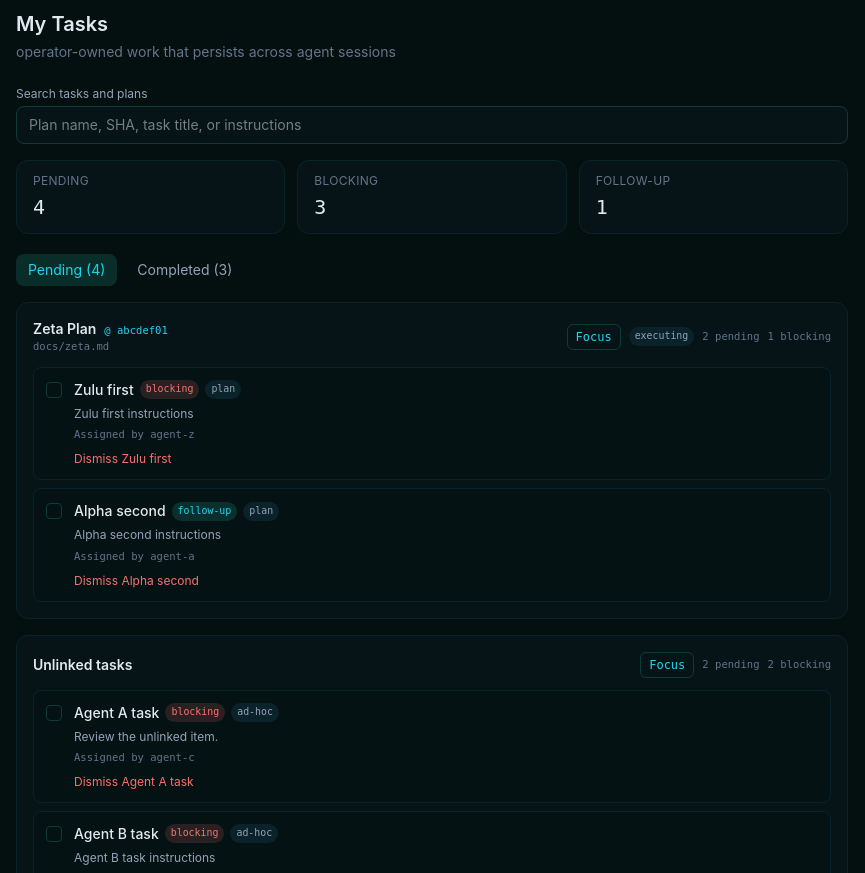
MyTasks › searches plan identity and task content without changing the server totals
Expected: the tab "Pending (4)" is shown, 16,254 -> 117,286
Type "abcdef01" into the search field labelled "Search tasks and plans" at point(432, 125), box 16,106 -> 848,144
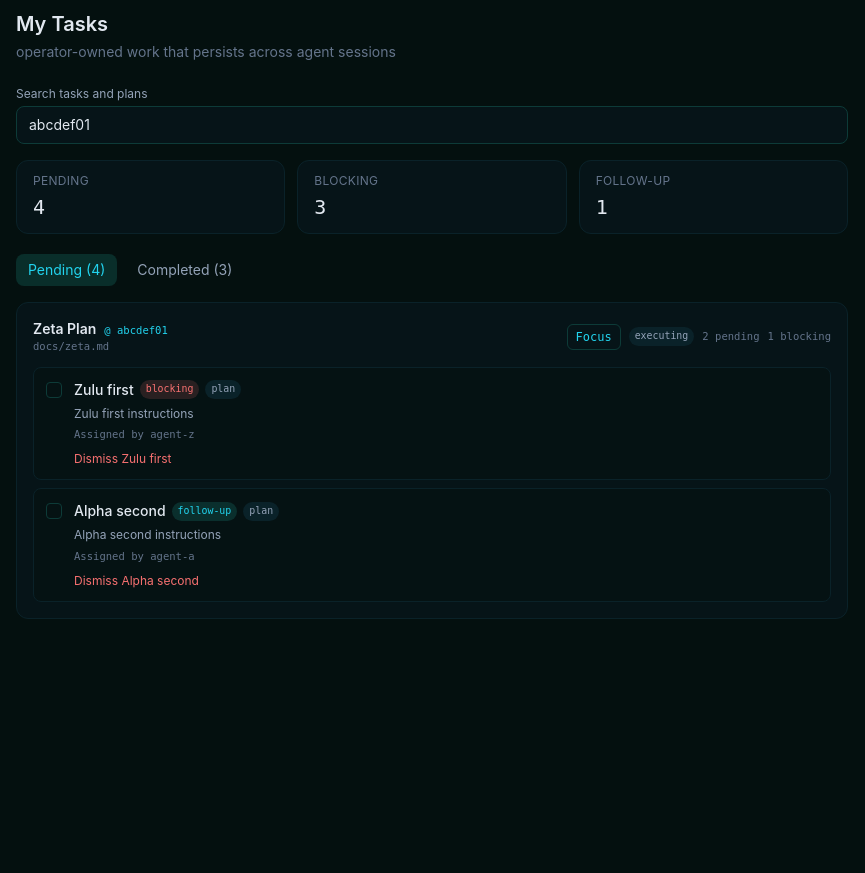
Expected: the heading "Zulu first" is shown, 74,380 -> 134,400
Result: the heading "Agent A task" is gone
Replace the text in the search field labelled "Search tasks and plans" with "zeta plan" at point(432, 125), box 16,106 -> 848,144
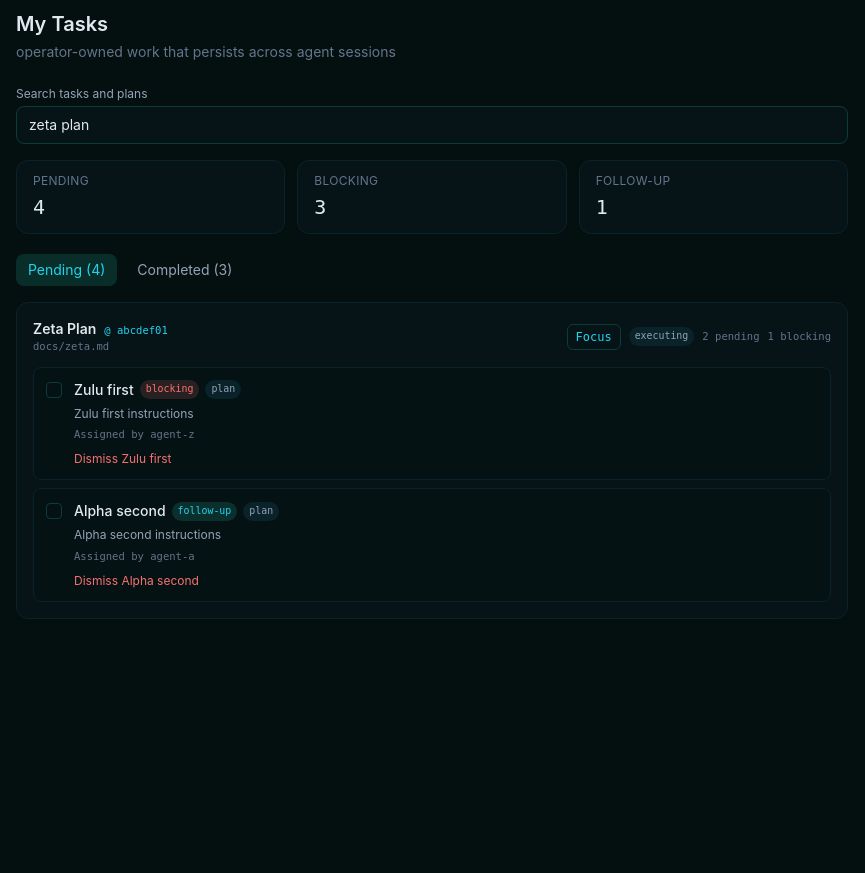
Expected: the heading "Zulu first" is shown, 74,380 -> 134,400
Expected: the heading "Agent A task" is not shown
Replace the text in the search field labelled "Search tasks and plans" with "docs/zeta.md" at point(432, 125), box 16,106 -> 848,144
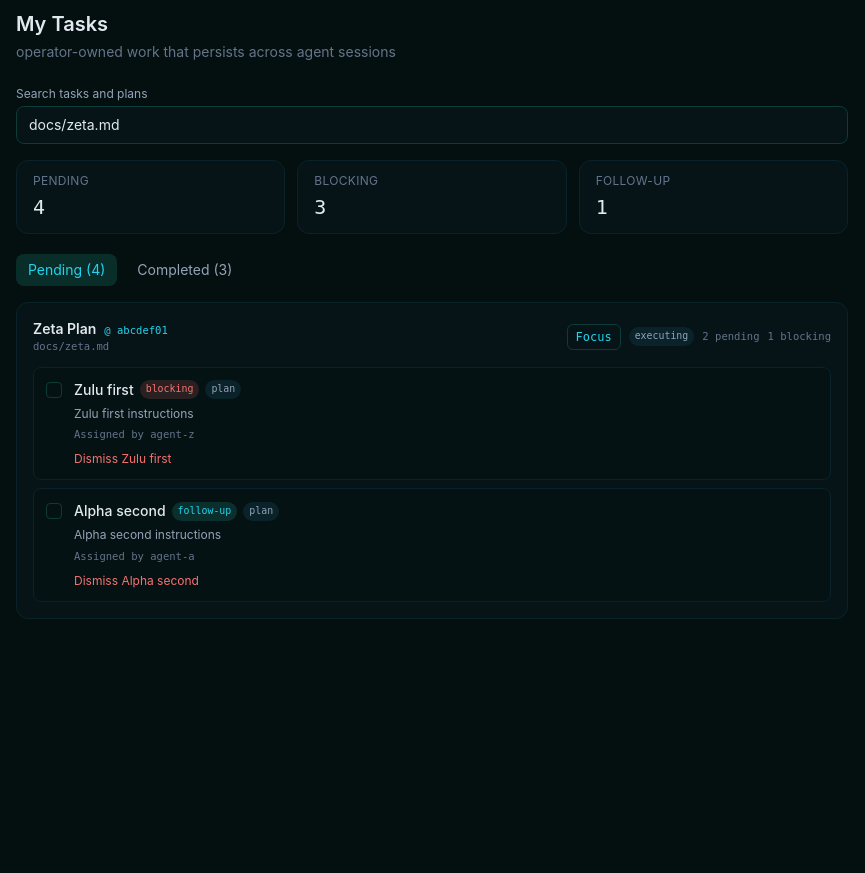
Expected: the heading "Alpha second" is shown, 74,501 -> 166,521
Expected: the heading "Agent B task" is not shown
Replace the text in the search field labelled "Search tasks and plans" with "agent a task" at point(432, 125), box 16,106 -> 848,144
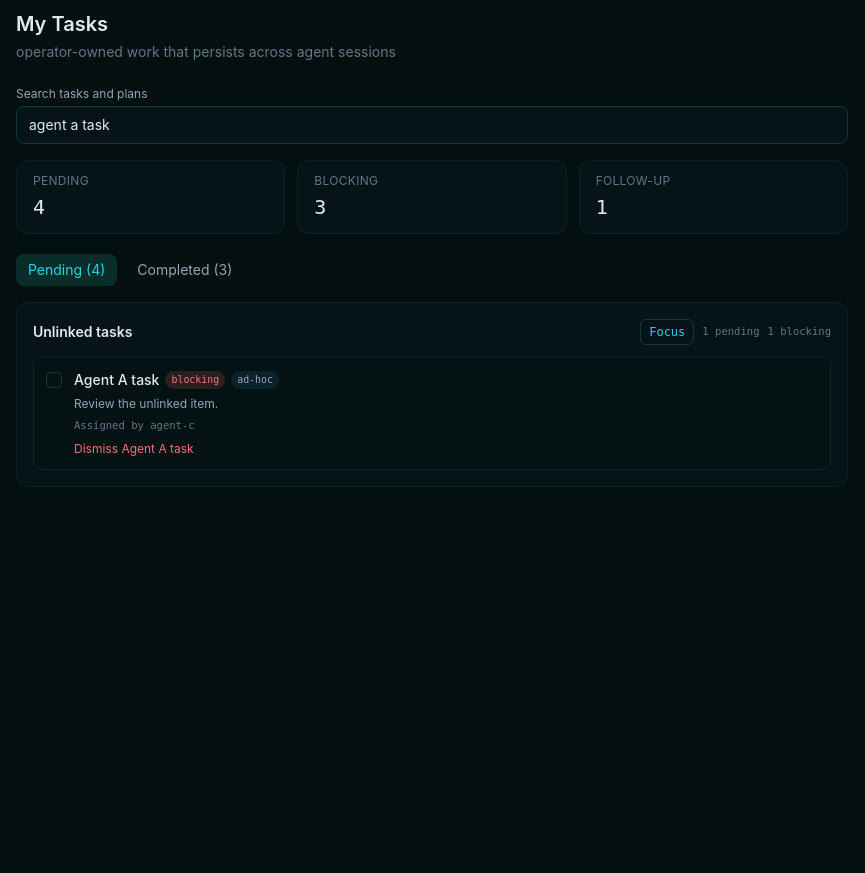
Result: the heading "Agent A task" is shown at 74,370 -> 160,390
Result: the heading "Zulu first" is gone
Replace the text in the search field labelled "Search tasks and plans" with "agent b task instructions" at point(432, 125), box 16,106 -> 848,144
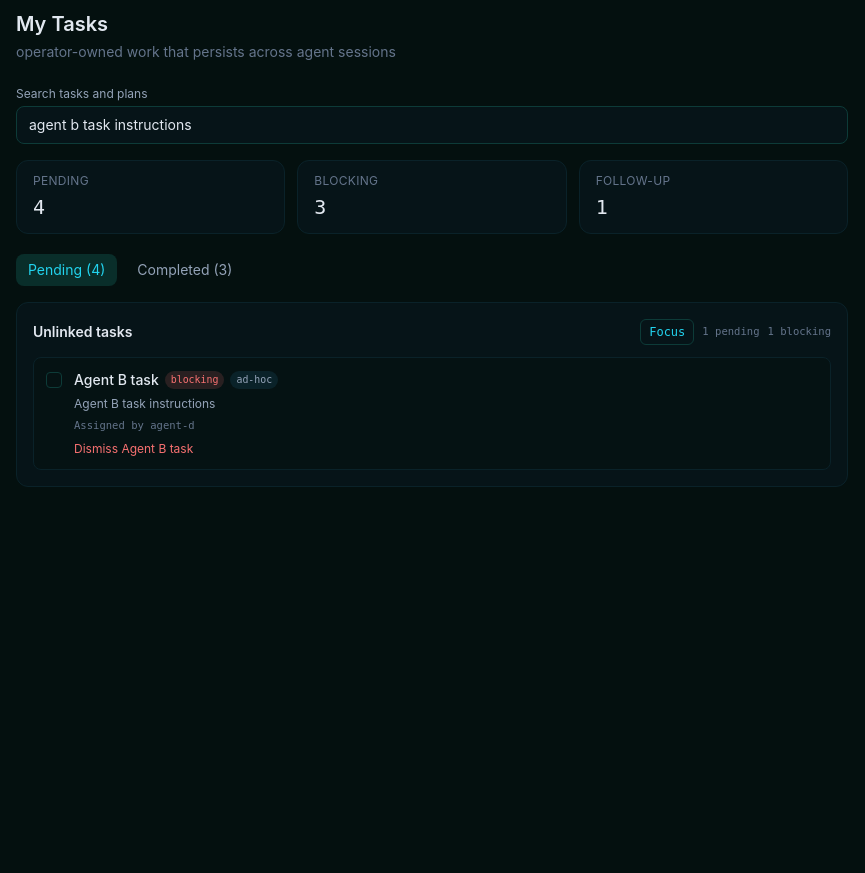
Expected: the heading "Zulu first" is not shown
Result: the heading "Agent B task" is shown at 74,370 -> 159,390
Replace the text in the search field labelled "Search tasks and plans" with "missing value" at point(432, 125), box 16,106 -> 848,144
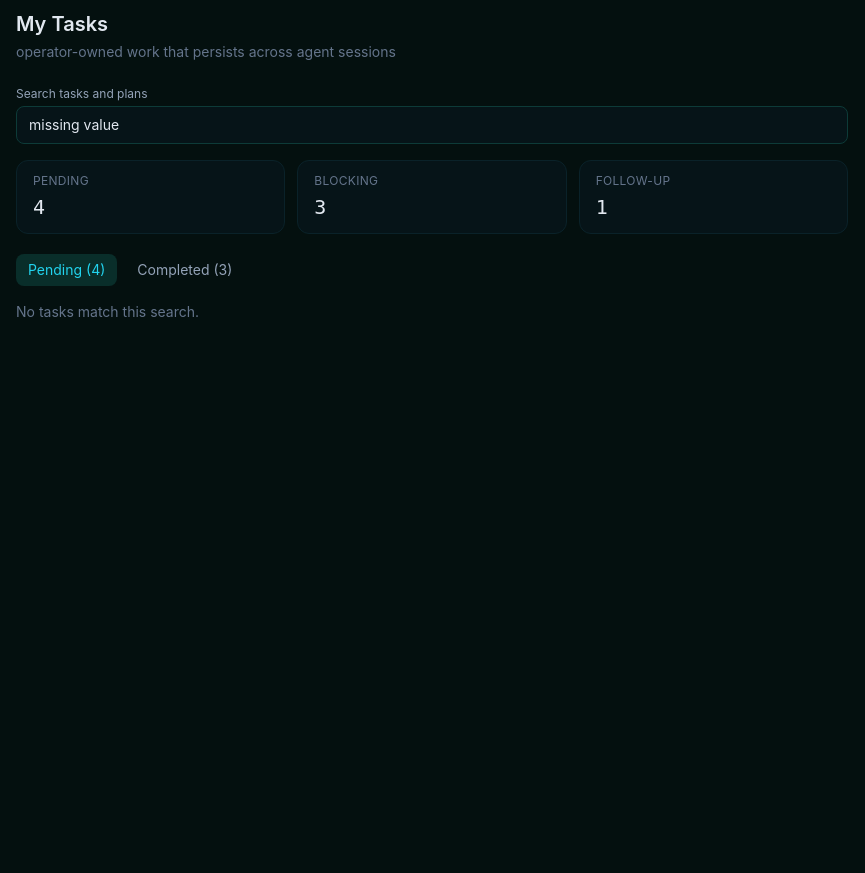
Result: the text "No tasks match this search." is shown at 16,303 -> 199,320
